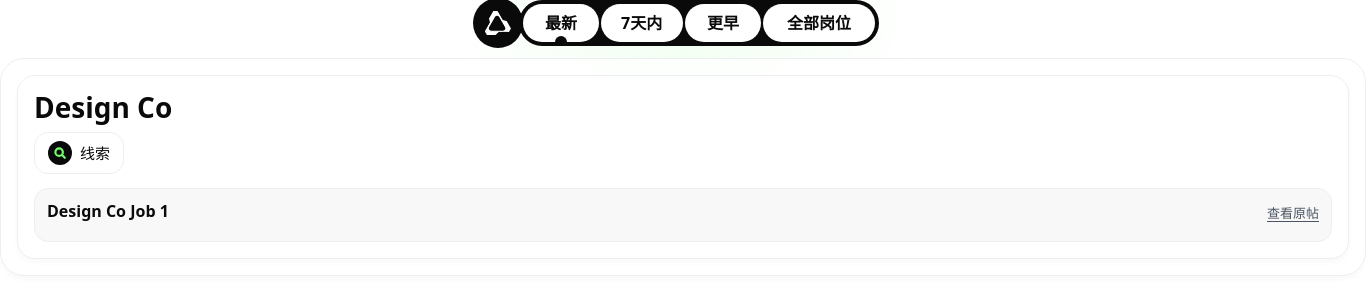
Test: CompanyFeedTimeline › keeps category options hidden until the filter button opens them
The width and height of the screenshot is (1366, 297).
Expected: the button "设计" is not shown
Click the button "全部岗位". click: coordinates (819, 23)
box: [763,4,875,42]
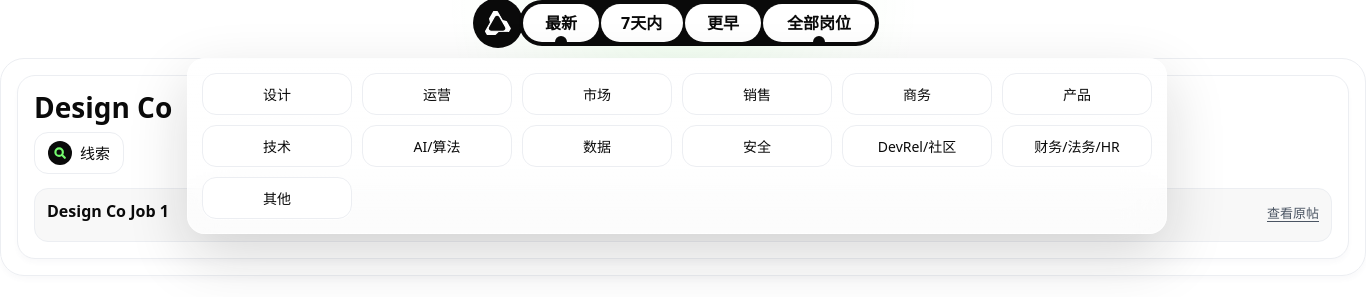
Expected: the button "设计" is shown, [202,73,352,115]
Expected: the button "全部岗位" is expanded, [763,4,875,42]
